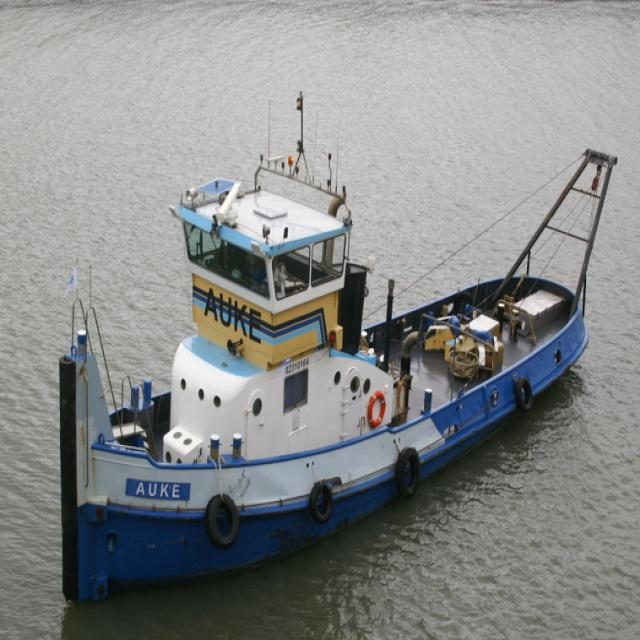tugboat: (56, 144, 621, 613)
